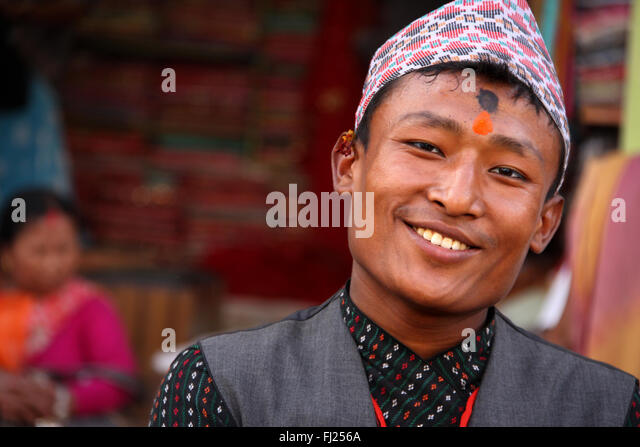human: (134, 1, 640, 428)
